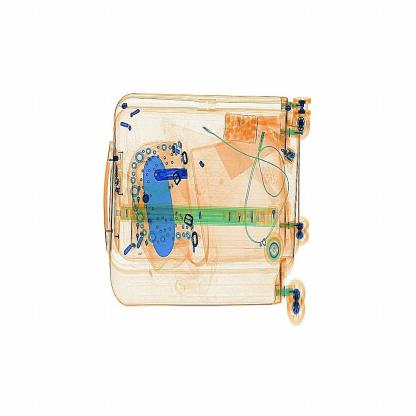knife: (150, 163, 193, 196)
